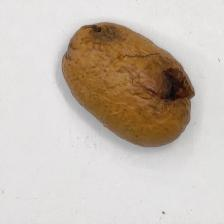NG: (151, 61, 196, 110), (85, 20, 122, 46)
